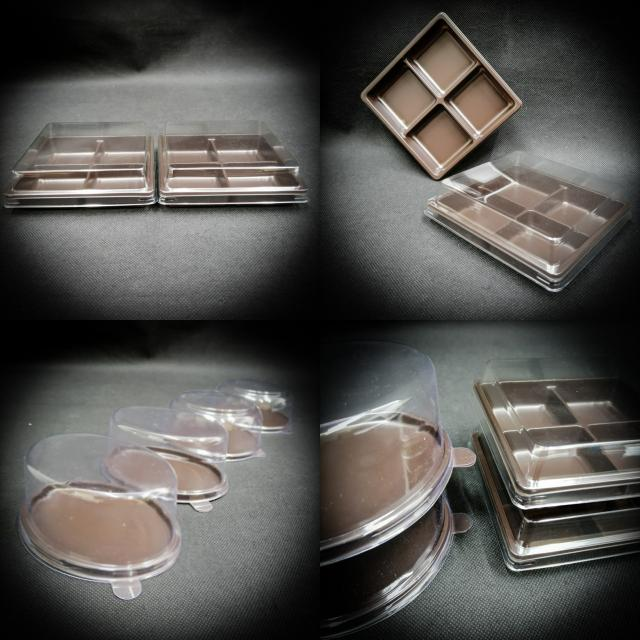Single-Use-Plastic: (320, 341, 454, 561), (425, 152, 629, 291), (20, 432, 181, 599), (361, 12, 521, 180), (474, 359, 640, 508), (101, 406, 229, 511), (5, 122, 155, 208), (159, 120, 308, 205), (169, 390, 265, 461)
